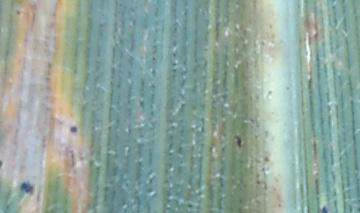tarspot: (20, 182, 36, 196), (233, 134, 243, 150), (69, 125, 78, 134), (320, 204, 329, 213), (15, 9, 21, 16), (1, 159, 4, 169)
